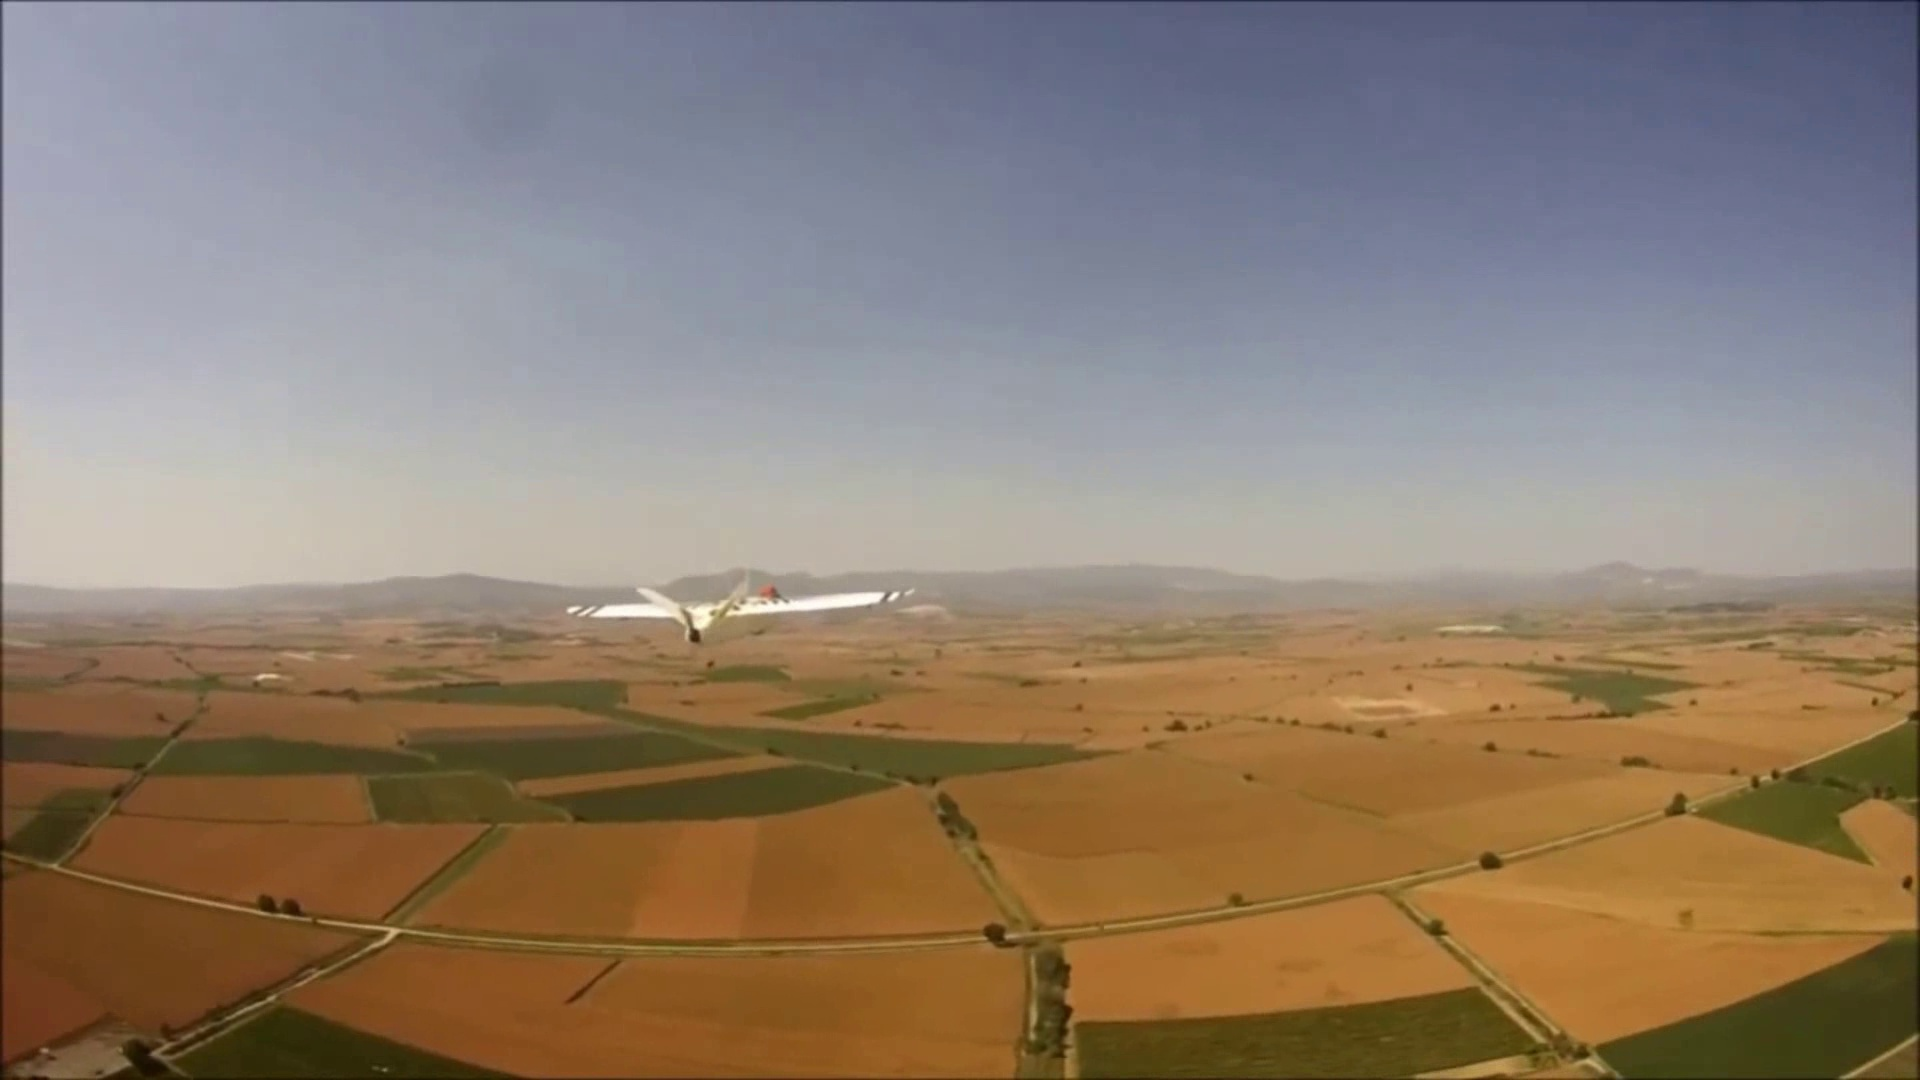airplane: (560, 568, 916, 644)
